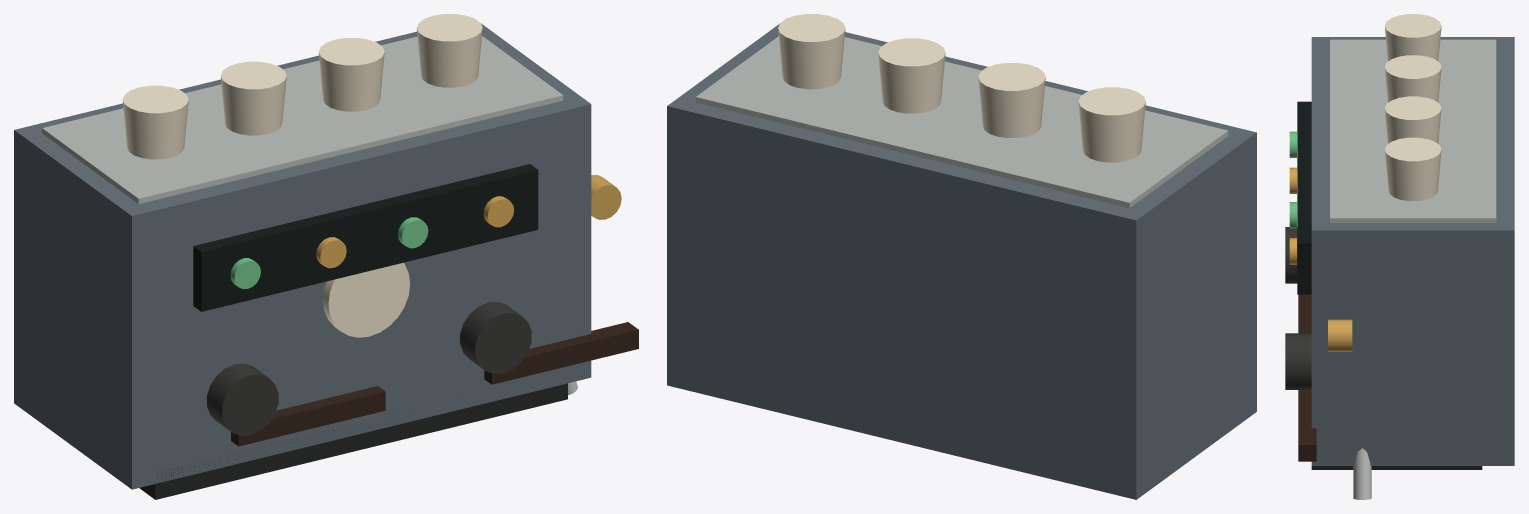
File: espresso-machine.glb
3 views of the same model, side by side, from view 1: azimuth 30°, elevation 25°; view 2: azimuth 150°, elevation 25°; view 3: azimuth 270°, elevation 25° (orthographic). The views are drawn at different scales.
Parts seen in each view (by area): view 1: BrushedSteelBody, CupWarmer, ControlPanel, WarmingCup (×4), GroupHead (×2), Portafilter (×2), DripTray, PressureGauge, BrewButton (×4), SteamKnob; view 2: BrushedSteelBody, CupWarmer, WarmingCup (×4); view 3: BrushedSteelBody, CupWarmer, WarmingCup (×4), ControlPanel, GroupHead (×2), Portafilter (×2), IntegratedSteamWand, SteamKnob, DripTray.
Boxes of the visible parts, x1,y1,x2,y2 form: BrushedSteelBody: [14, 18, 591, 489]; CupWarmer: [42, 36, 563, 203]; ControlPanel: [193, 164, 538, 311]; WarmingCup (×4): [122, 14, 482, 159]; GroupHead (×2): [207, 301, 531, 435]; Portafilter (×2): [231, 322, 638, 446]; DripTray: [139, 383, 567, 499]; PressureGauge: [322, 262, 409, 337]; BrewButton (×4): [230, 196, 513, 288]; SteamKnob: [591, 175, 621, 219]; BrushedSteelBody: [667, 18, 1256, 499]; CupWarmer: [695, 36, 1228, 208]; WarmingCup (×4): [778, 14, 1145, 162]; BrushedSteelBody: [1311, 37, 1514, 465]; CupWarmer: [1330, 39, 1496, 222]; WarmingCup (×4): [1384, 14, 1441, 200]; ControlPanel: [1297, 101, 1311, 294]; GroupHead (×2): [1285, 227, 1311, 389]; Portafilter (×2): [1298, 294, 1316, 461]; IntegratedSteamWand: [1353, 448, 1371, 499]; SteamKnob: [1328, 319, 1352, 351]; DripTray: [1311, 466, 1482, 469].
Bounding box in the file's own units: 2.45 × 1.71 × 1.13.
